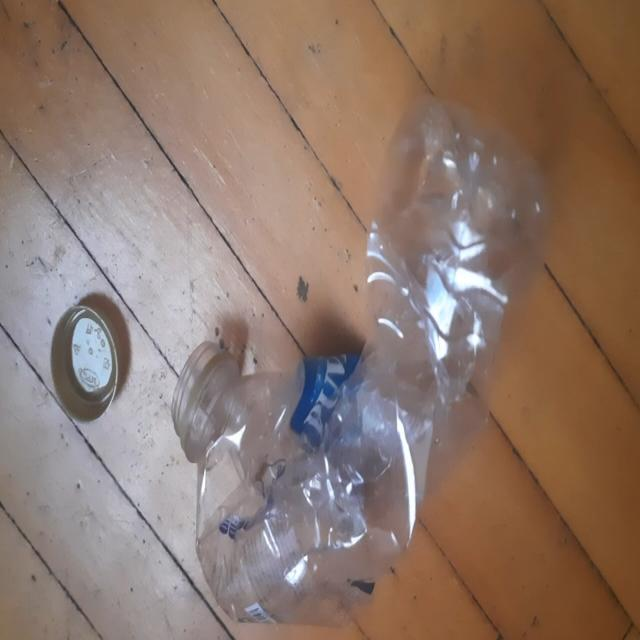Plastic: (174, 94, 548, 625)
